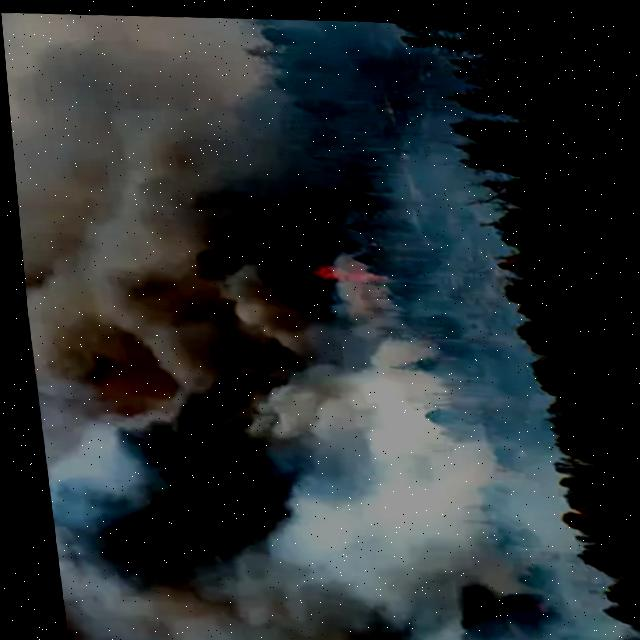Smoke: (1, 16, 393, 640)
